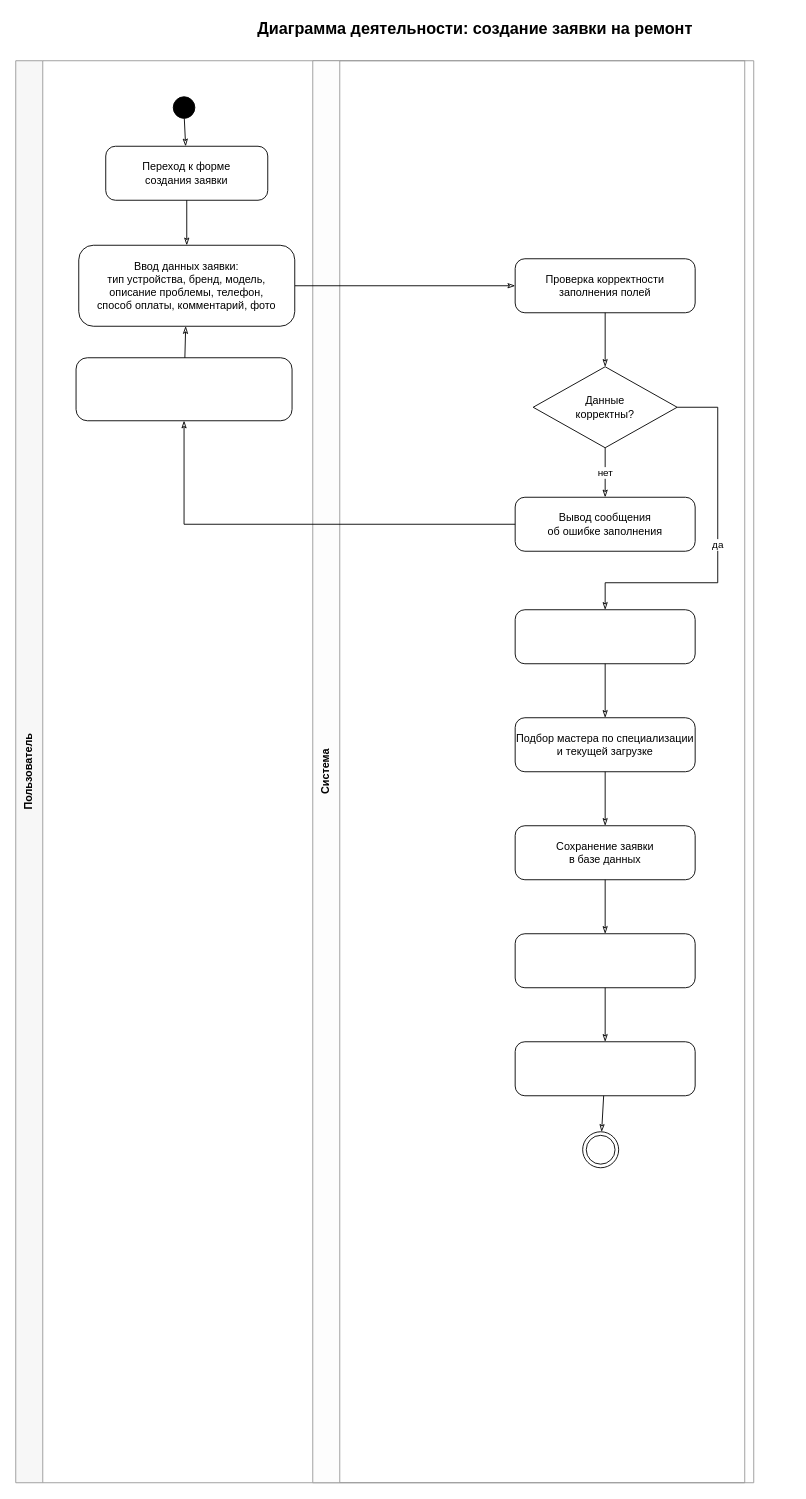
Image size: 806x1499. Some labels were removed from this diagram. The centre of each missing label's shape, as x and y in pixels:
Вывод сообщения об успешном создании заявки: the point at 604,1068
Исправление данных в форме заявки: the point at 183,389
Обновление списка заявок пользователя: the point at 604,960
Смена статуса заявки: the point at 604,636
